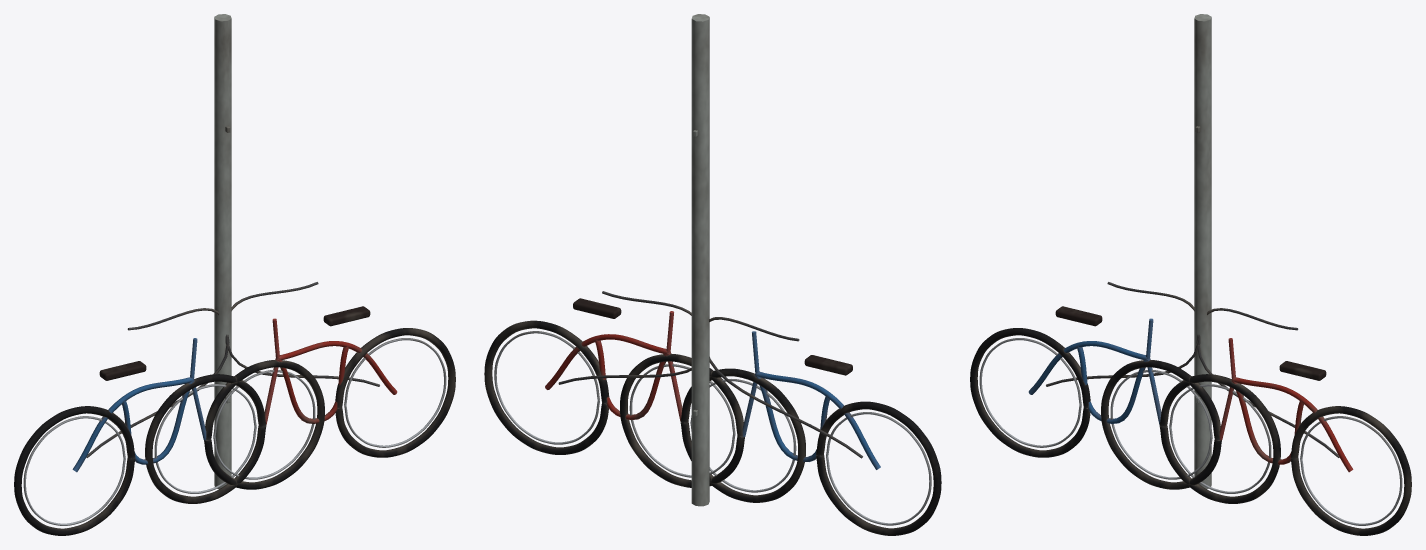
Rendered from pod_rower_rura.glb.
The picture shows the model from 3 angles, left to right: view 1: azimuth 30°, elevation 25°; view 2: azimuth 150°, elevation 25°; view 3: azimuth 330°, elevation 25°; orthographic projection. The views are drawn at different scales.
Visible parts, largest first — view 1: Rowery; view 2: Rowery; view 3: Rowery.
Boxes of the visible parts, x1,y1,x2,y2 form: Rowery: (14, 14, 455, 535); Rowery: (484, 14, 941, 535); Rowery: (970, 14, 1411, 535).
Bounding box in the file's own units: 2.56 × 2.6 × 0.215.
Materials: 1 (1 with a texture image).
